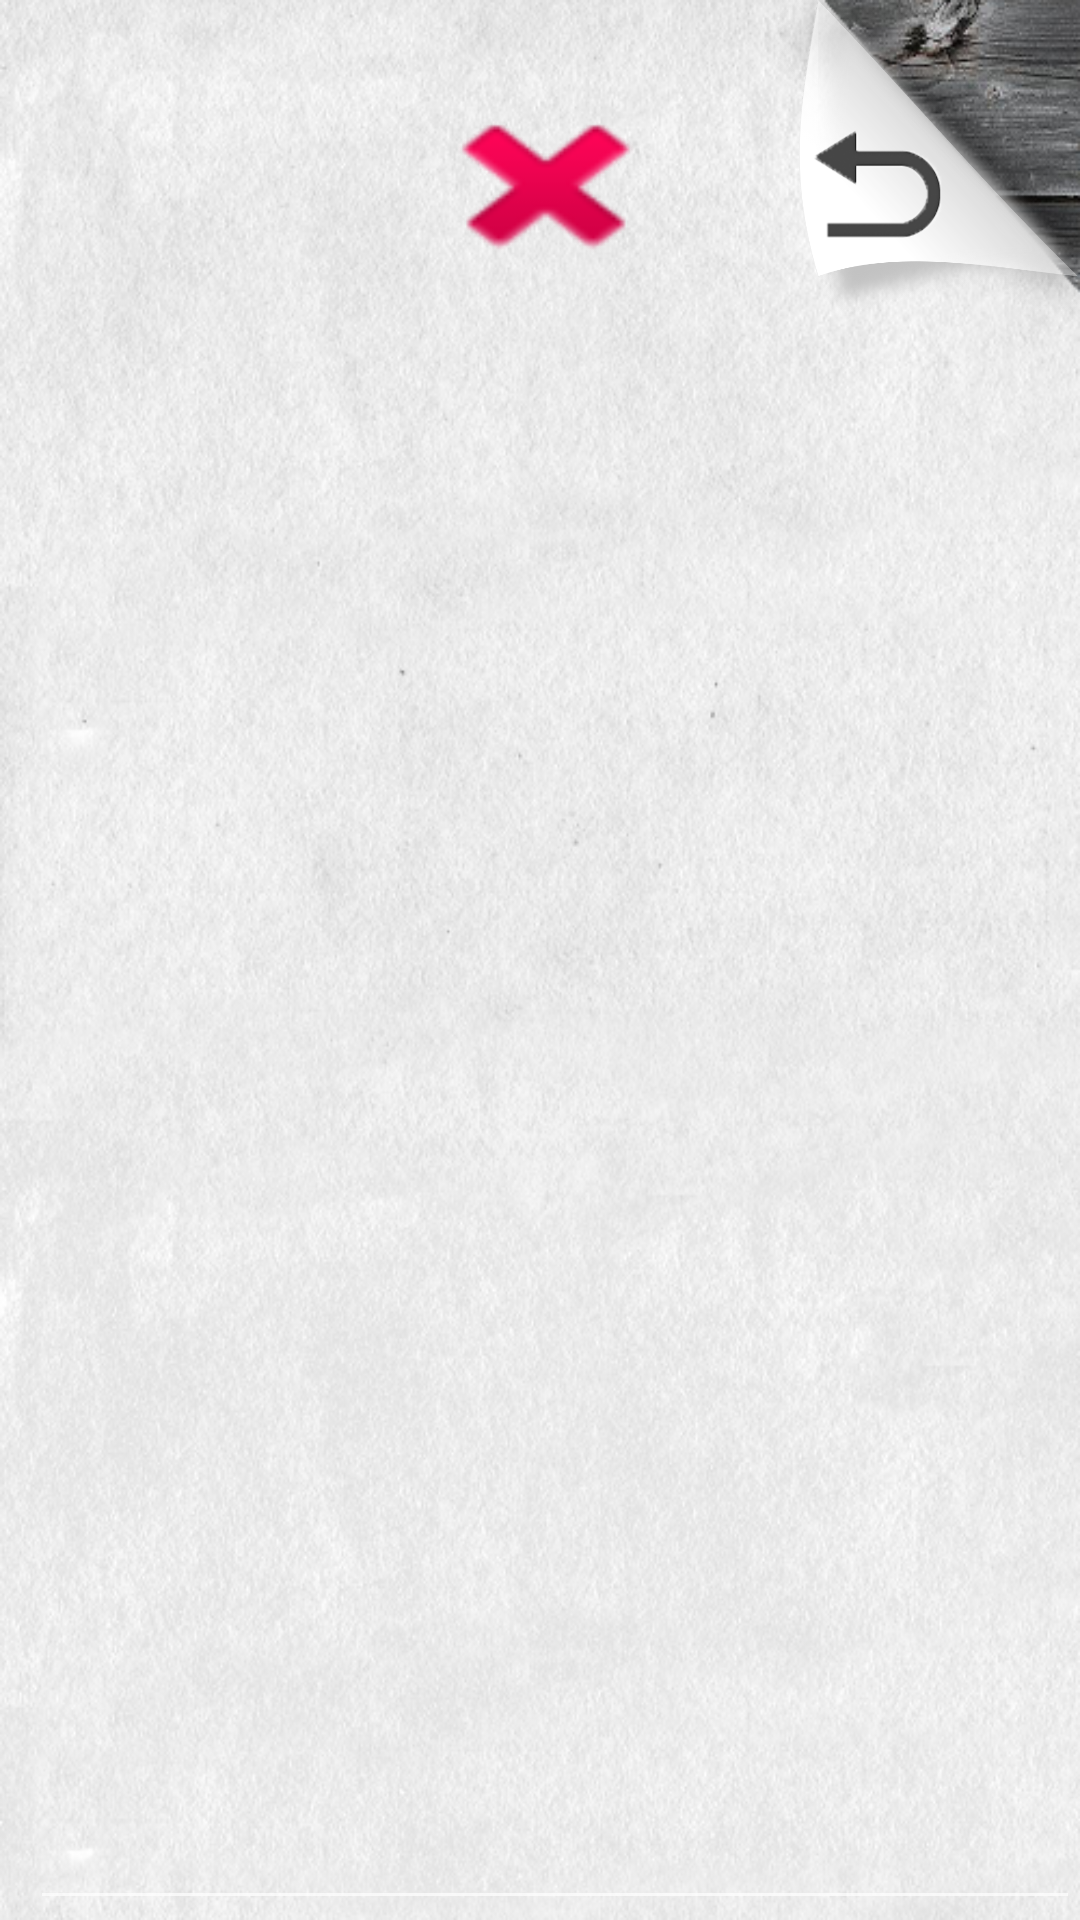

Locate icon controls on the screen. Image size 1080px×1920px, boxes as Rect(x1, y1, x2, y2).
delete: Rect(462, 125, 630, 248)
